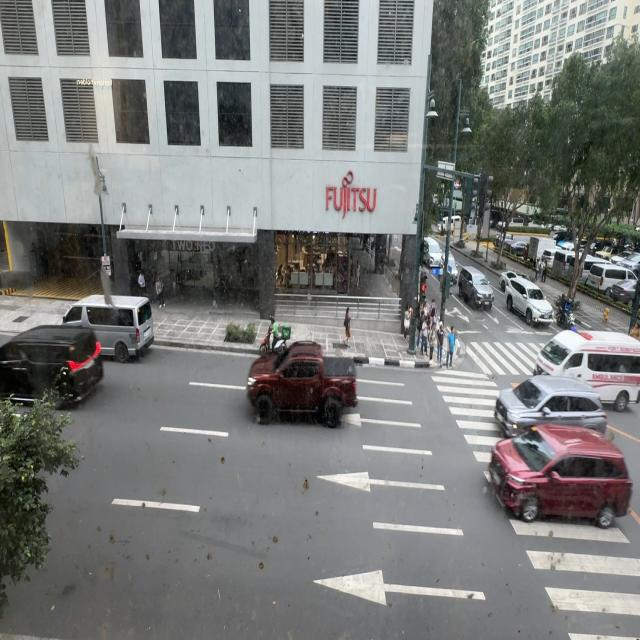pedestrain: (342, 300, 354, 348), (402, 300, 414, 347), (343, 305, 353, 347), (404, 305, 412, 341)
waiting: (434, 321, 447, 377), (445, 323, 458, 377), (419, 296, 431, 348), (420, 316, 432, 360), (428, 319, 438, 364), (428, 298, 437, 345), (446, 327, 456, 369), (428, 324, 438, 362), (436, 323, 444, 365), (422, 322, 429, 356), (416, 320, 423, 354), (430, 300, 438, 326), (422, 300, 430, 324)
